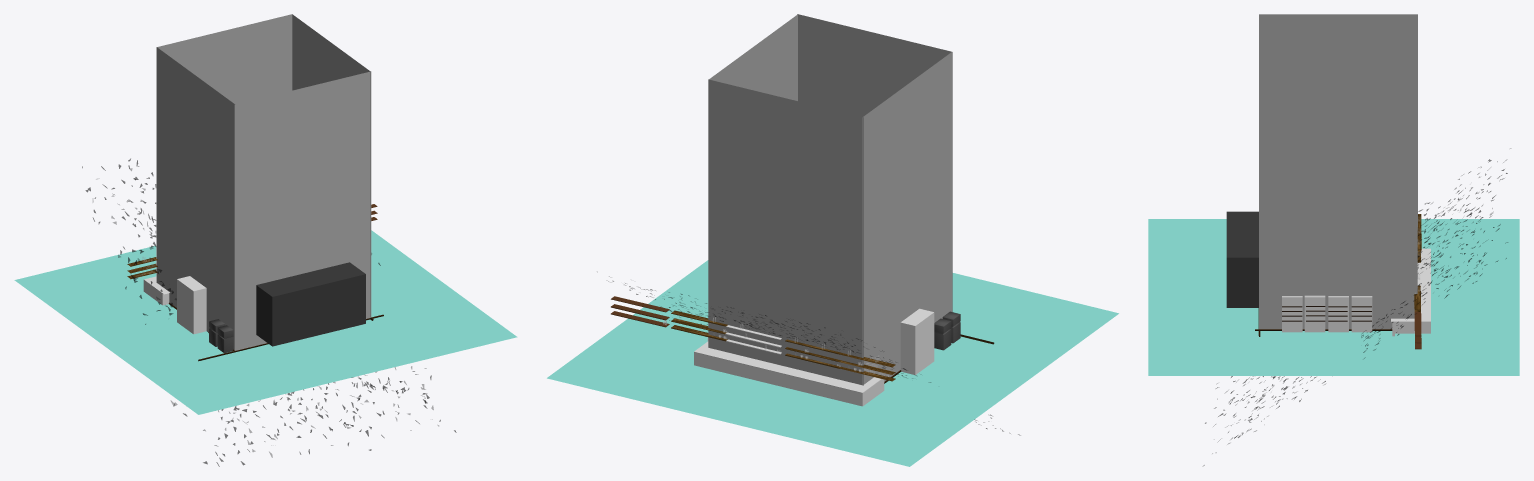
File: Tutorial.fbx
3 views of the same model, side by side, from view 1: azimuth 30°, elevation 25°; view 2: azimuth 150°, elevation 25°; view 3: azimuth 270°, elevation 25° (orthographic). The views are drawn at different scales.
Parts seen in each view (by area): view 1: Plane.002, Plane.001, Cube.003, Cube.027, Cube.012; view 2: Plane.002, Plane.001, Cube.013, Cube.012, Cylinder.027, Cylinder.011, Cylinder.041; view 3: Plane.002, Plane.001, Cube.003, Cube.027, Cube.013, Cube.006, Cube.022, Cube.002, Cube.005, Cylinder.027.
Part boxes in pixels (x1,y1,x2,y2): Plane.002: [156, 14, 371, 350]; Plane.001: [14, 230, 517, 414]; Cube.003: [256, 262, 365, 346]; Cube.027: [82, 158, 456, 466]; Cube.012: [177, 276, 206, 334]; Plane.002: [708, 14, 952, 385]; Plane.001: [547, 260, 1118, 466]; Cube.013: [694, 341, 884, 406]; Cube.012: [900, 308, 934, 375]; Cylinder.027: [611, 296, 727, 341]; Cylinder.011: [725, 325, 841, 368]; Cylinder.041: [837, 353, 895, 381]; Plane.002: [1259, 14, 1417, 329]; Plane.001: [1148, 219, 1519, 375]; Cube.003: [1226, 211, 1258, 307]; Cube.027: [1203, 148, 1510, 465]; Cube.013: [1390, 248, 1430, 333]; Cube.006: [1304, 295, 1325, 332]; Cube.022: [1351, 296, 1372, 332]; Cube.002: [1282, 296, 1302, 332]; Cube.005: [1328, 296, 1348, 332]; Cylinder.027: [1414, 285, 1421, 349].
Size of the model in its own units: 27994 by 29738 by 27994.
